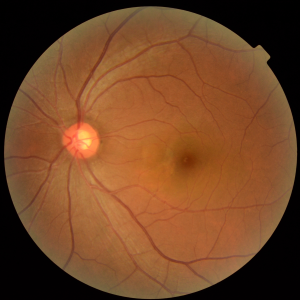healthy_eye: (30, 90, 250, 207)
